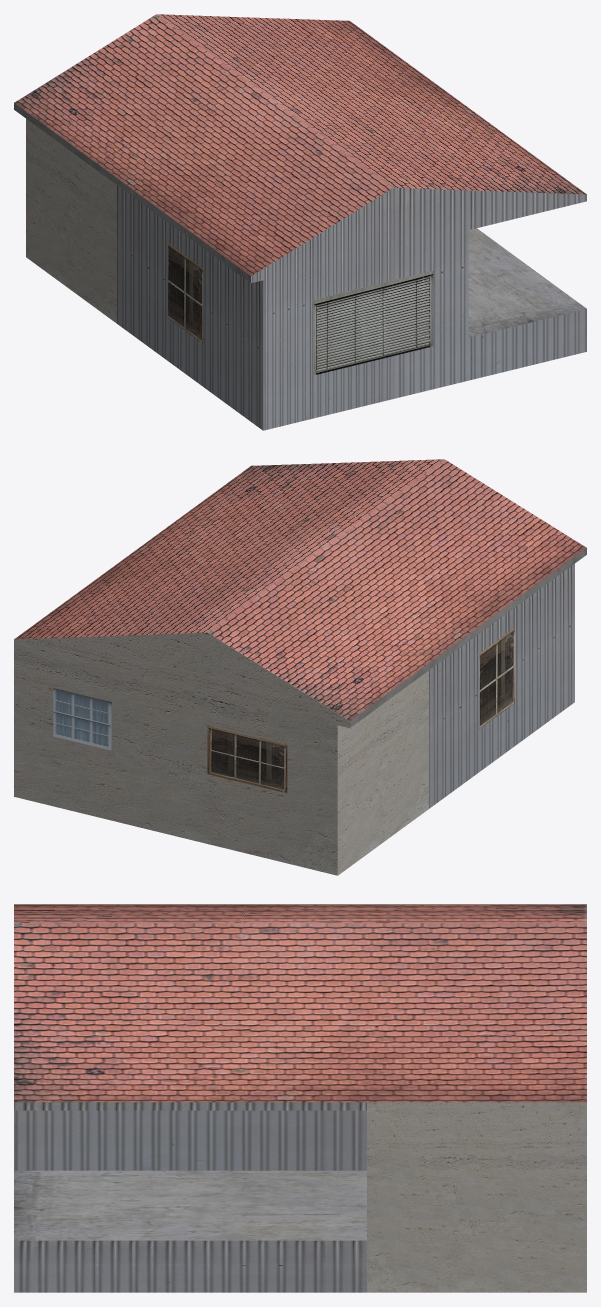
The model's file is sb_civil_garage_mj.fbx.
3 views of the same model, one above another, from view 1: azimuth 30°, elevation 25°; view 2: azimuth 150°, elevation 25°; view 3: azimuth 270°, elevation 25° (orthographic). The views are drawn at different scales.
Parts seen in each view (by area): view 1: sb_civil_garage; view 2: sb_civil_garage; view 3: sb_civil_garage.
Part boxes in pixels (x1,y1,x2,y2): sb_civil_garage: (14,14,586,430); sb_civil_garage: (14,459,586,875); sb_civil_garage: (14,904,586,1292).
Size of the model in its own units: 8.18 by 4.91 by 10.
